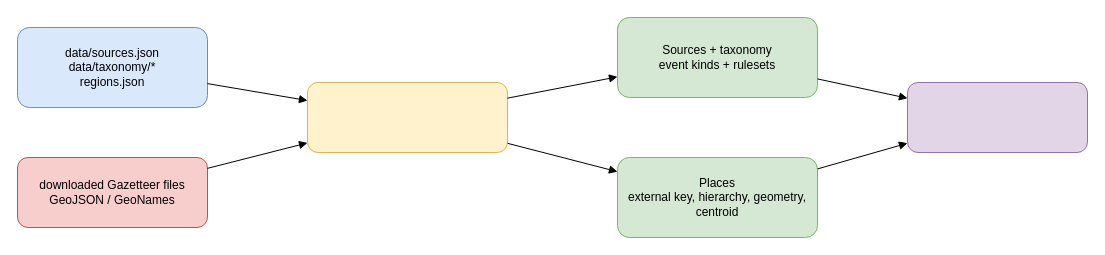
Some shapes in this 1105 by 255 pixel diagram are drawn without their labels. The shapes that lost their labels are listed below. From the top down, each one's centre as x and y in pixels, then its label:
At pixel 407 117: "migrate role ordered seeders under lock".
At pixel 997 117: "Collectors / parser / API use database reference rows".
